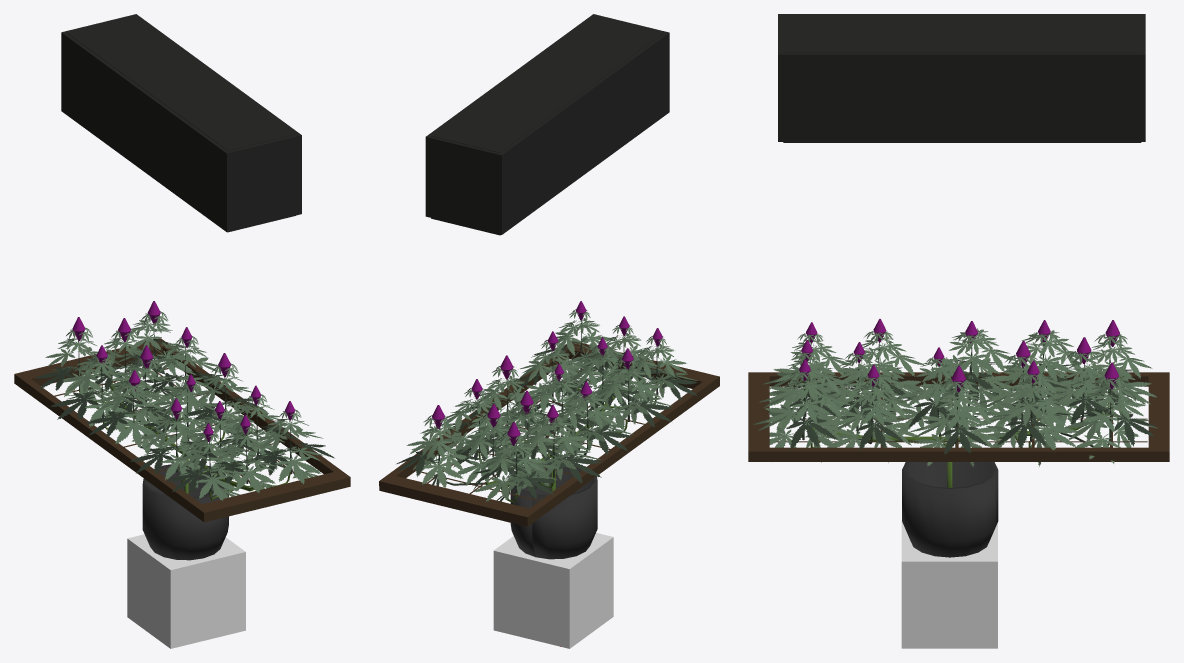
Rendered from ballscrog2.glb.
3 views of the same model, side by side, from view 1: azimuth 30°, elevation 25°; view 2: azimuth 150°, elevation 25°; view 3: azimuth 270°, elevation 25° (orthographic). The views are drawn at different scales.
Parts seen in each view (by area): view 1: Cube.001; view 2: Cube.001; view 3: Cube.001.
Part boxes in pixels (x1,y1,x2,y2): Cube.001: (14,14,350,648); Cube.001: (379,14,719,648); Cube.001: (748,14,1169,648).
Size of the model in its own units: 4.54 by 13.66 by 8.74.
